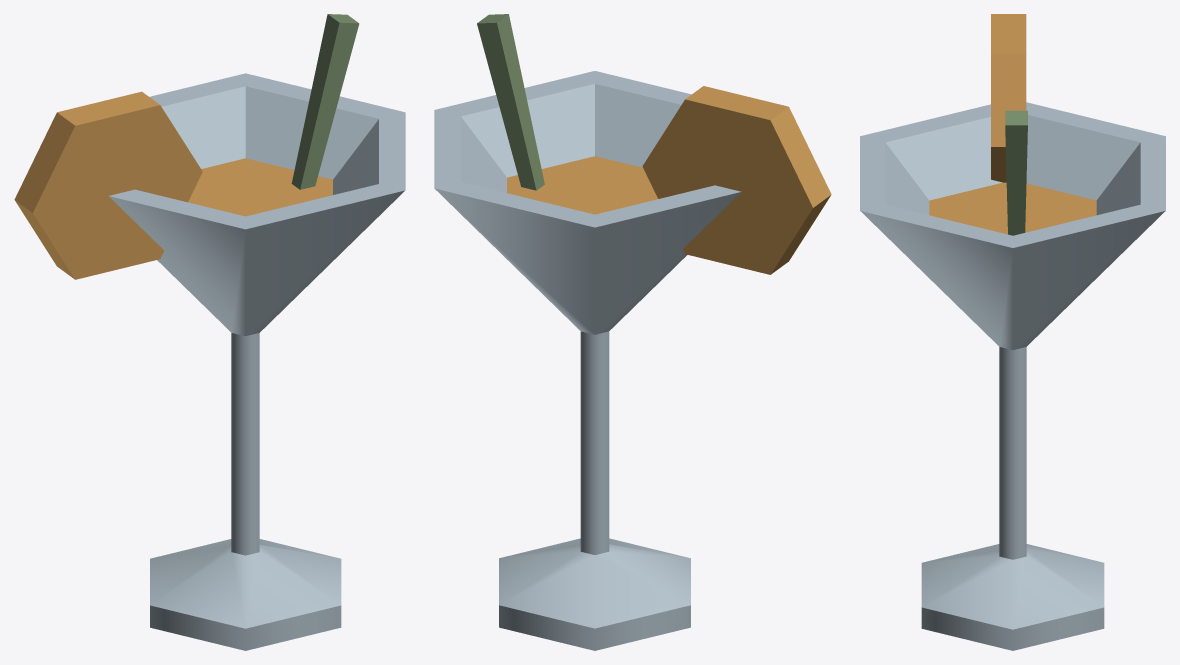
Rendered from cocktail-glass.dae.
3 views of the same model, side by side, from view 1: azimuth 30°, elevation 25°; view 2: azimuth 150°, elevation 25°; view 3: azimuth 270°, elevation 25° (orthographic). The views are drawn at different scales.
Visible parts, largest first — view 1: cocktail-glass; view 2: cocktail-glass; view 3: cocktail-glass.
Part boxes in pixels (x1=…): cocktail-glass: x1=14, y1=14, x2=405, y2=650; cocktail-glass: x1=434, y1=14, x2=831, y2=650; cocktail-glass: x1=860, y1=14, x2=1165, y2=650.
Size of the model in its own units: 0.1286 by 0.0928 by 0.18.
